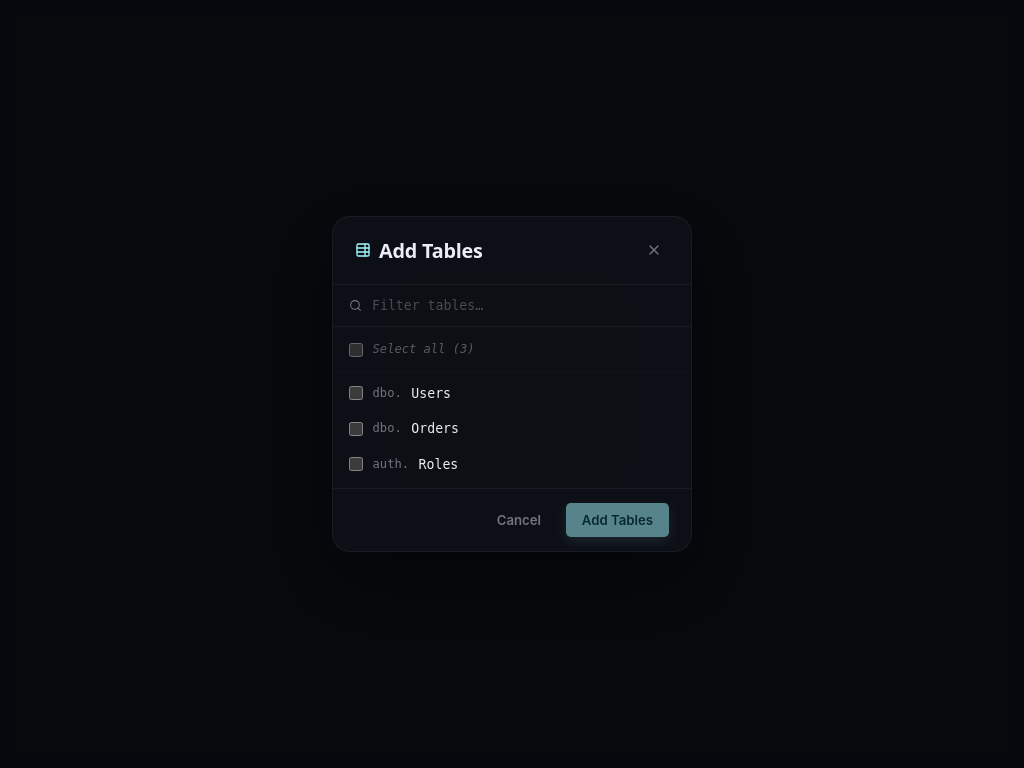
AddTablesDialog › select all deselects all when all are already selected
Select all, then deselect all
Click the checkbox named "Select all filtered tables". click: [356, 350]
box: [349,343,363,357]
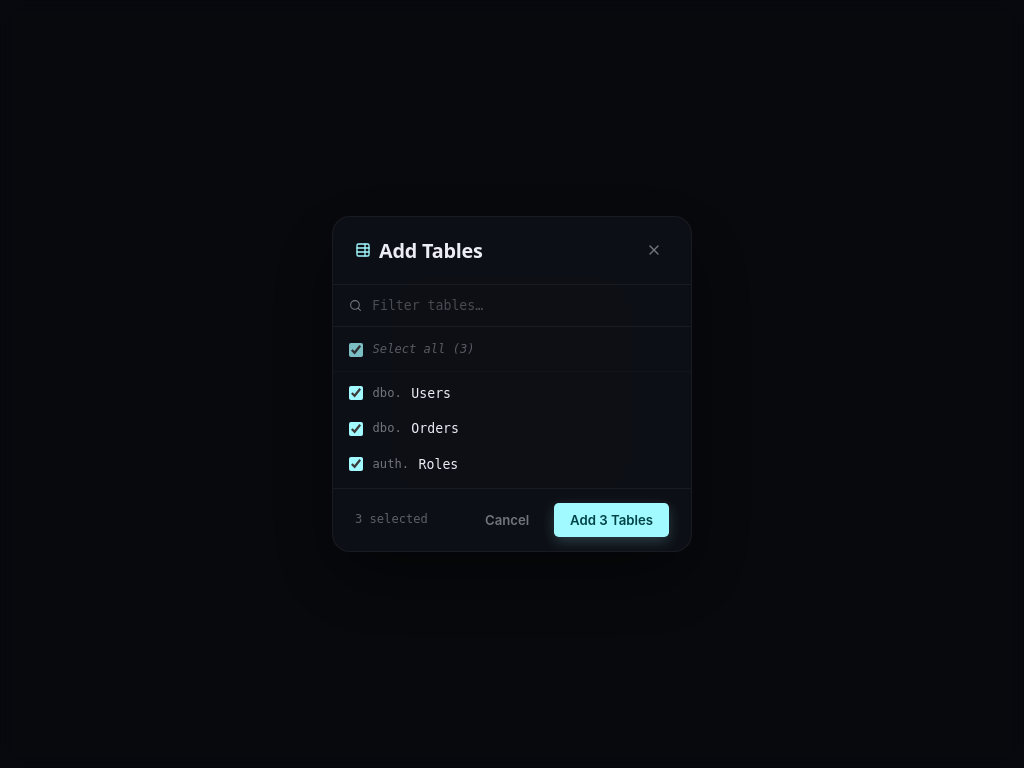
Click the checkbox named "Select all filtered tables". click: [356, 350]
box: [349,343,363,357]
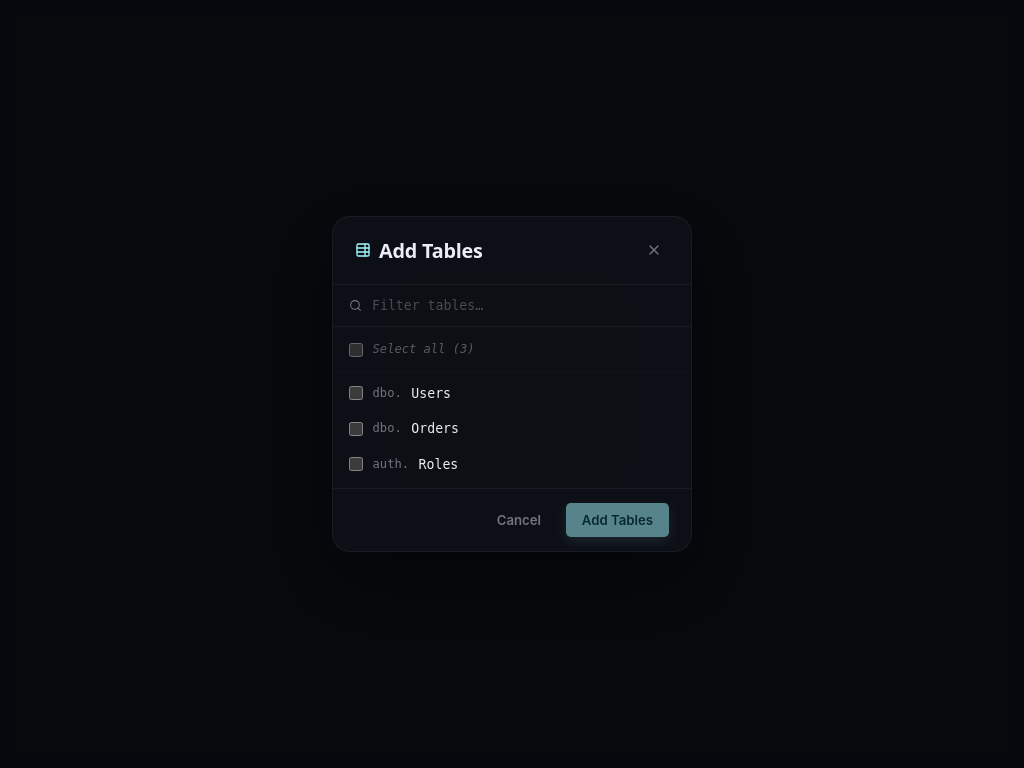
Expected: the checkbox named "dbo.Users" is not checked, [349,386,363,400]
